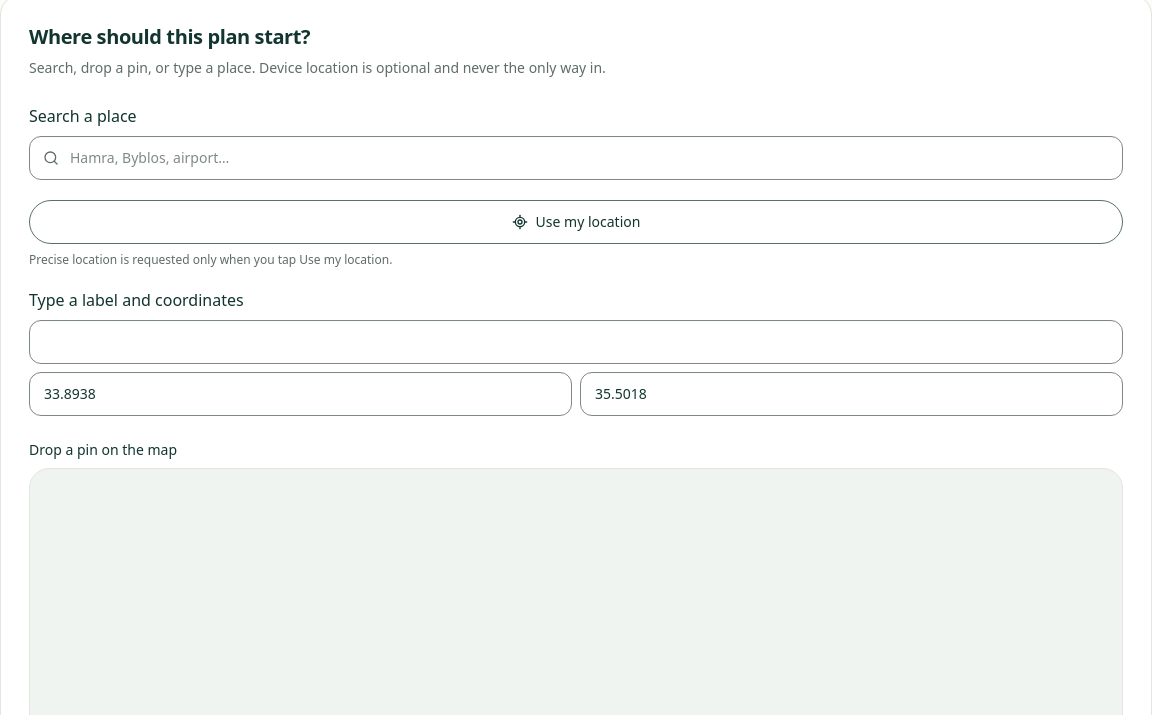
start location picker › keeps manual entry after geolocation denial
Step 1. Click the button "Use my location" → (576, 222), box 29,200 -> 1123,244
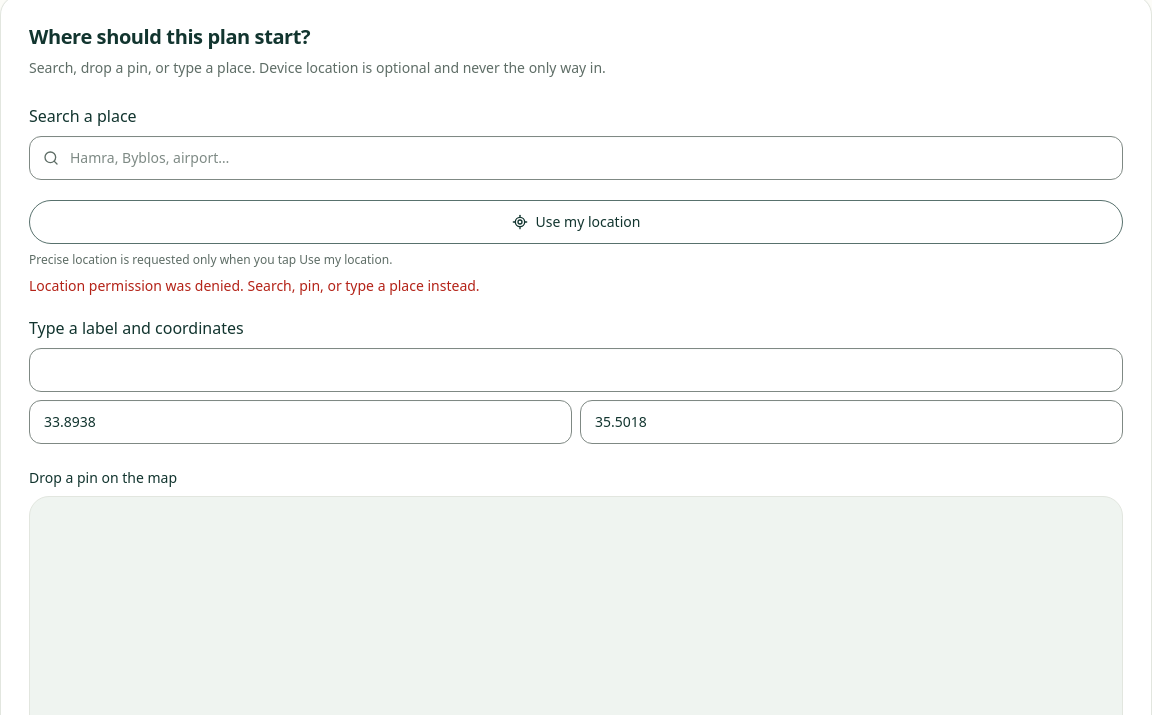
Expected: the message shows "Location permission was denied", 29,276 -> 480,295
Step 2. Type "Hamra studio" into the field labelled "Type a label and coordinates" → (576, 370), box 29,348 -> 1123,392
(page scrolled)
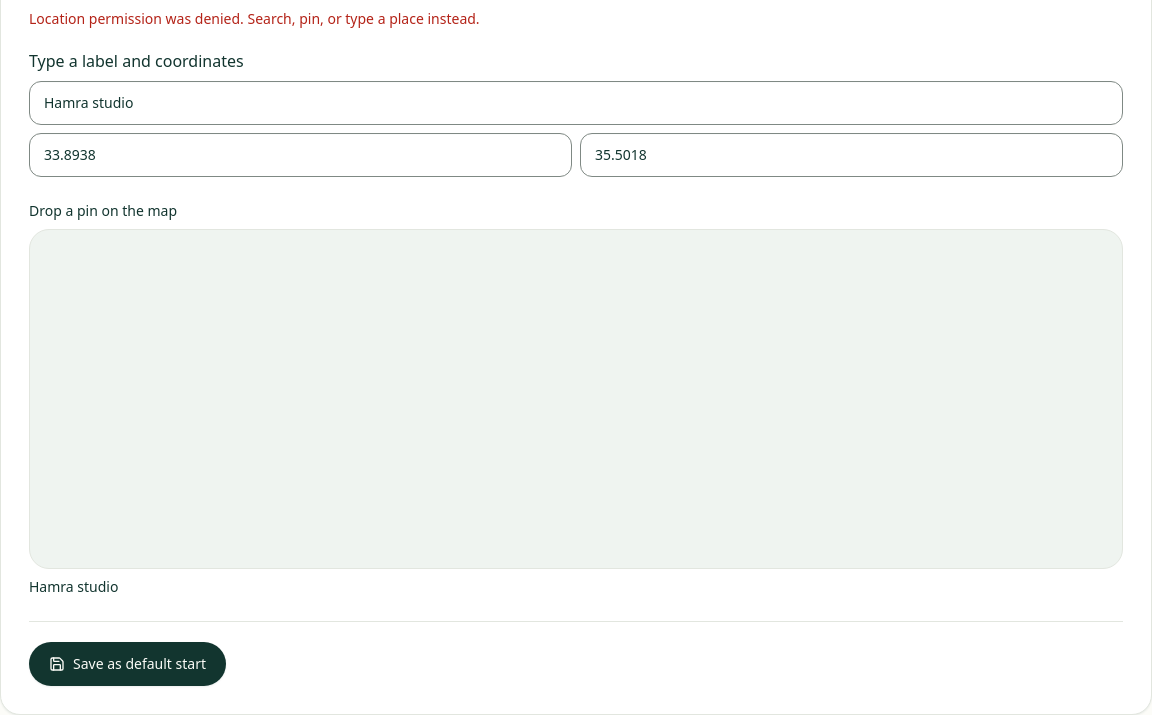
Step 3. Click the button "Save as default start" → (128, 664), box 29,642 -> 226,686
(page scrolled)
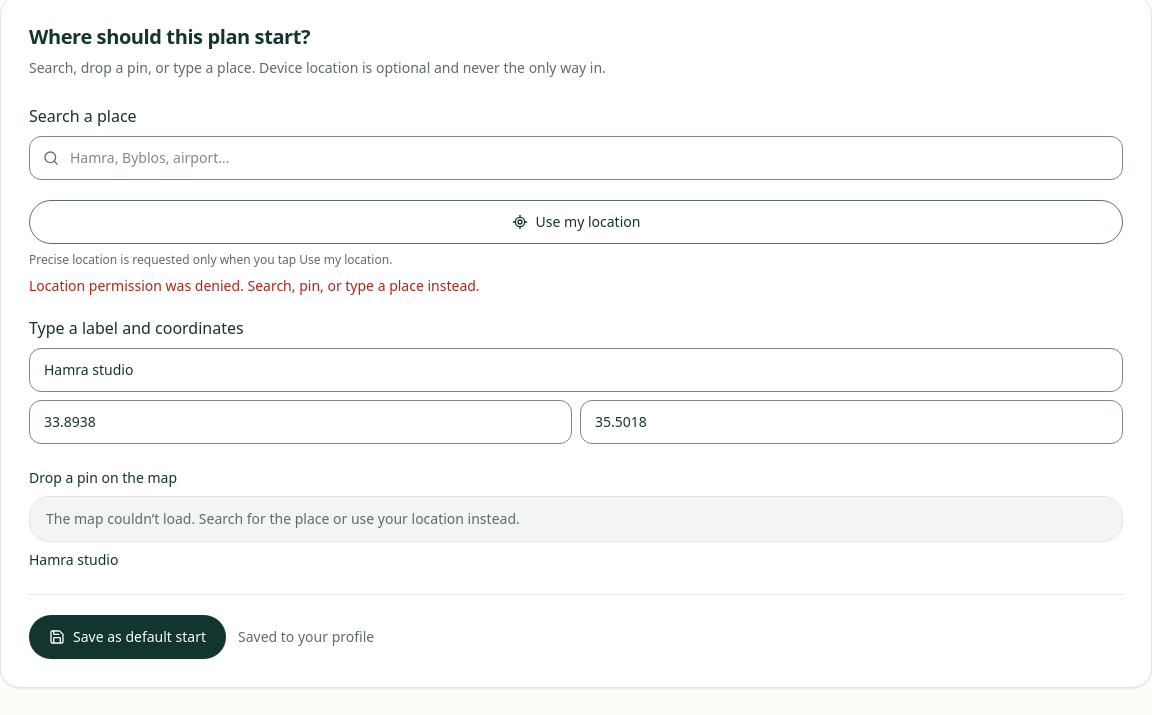
Expected: the message "Saved to your profile" is shown, 238,627 -> 374,647
